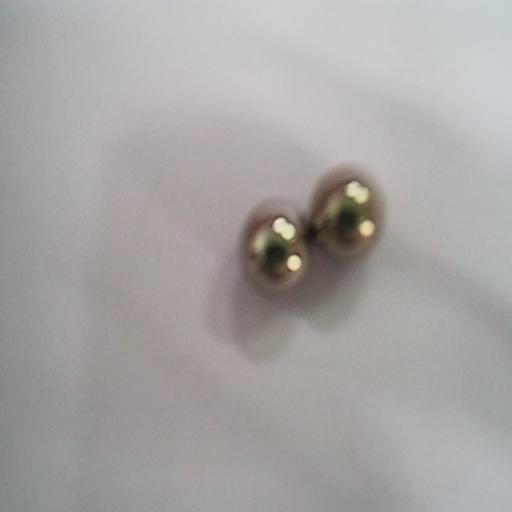steel-ball: (235, 188, 306, 301), (310, 164, 390, 264)
